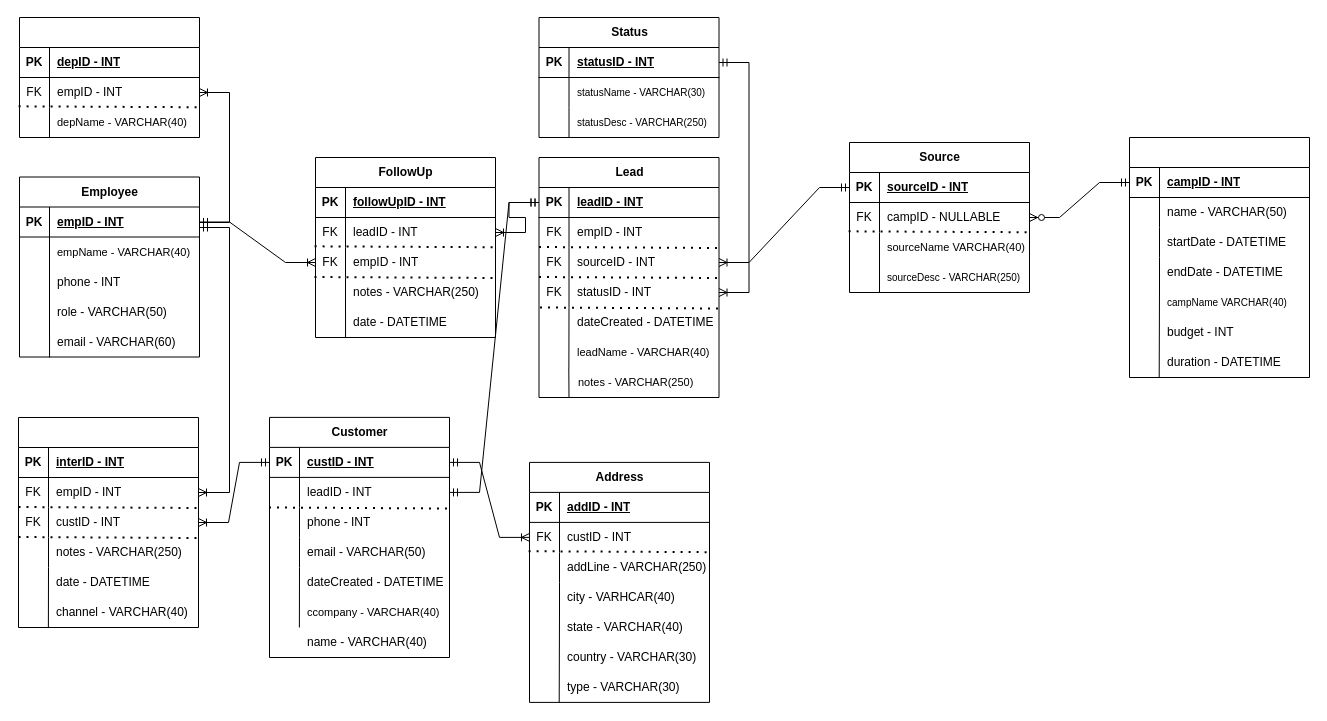
Image size: 1327x721. Some labels were removed from this diagram. Each missing label, with the box of its shape:
Campaign: (1128, 136, 1310, 378)
Dependent: (18, 16, 200, 138)
Interaction: (18, 416, 198, 628)
